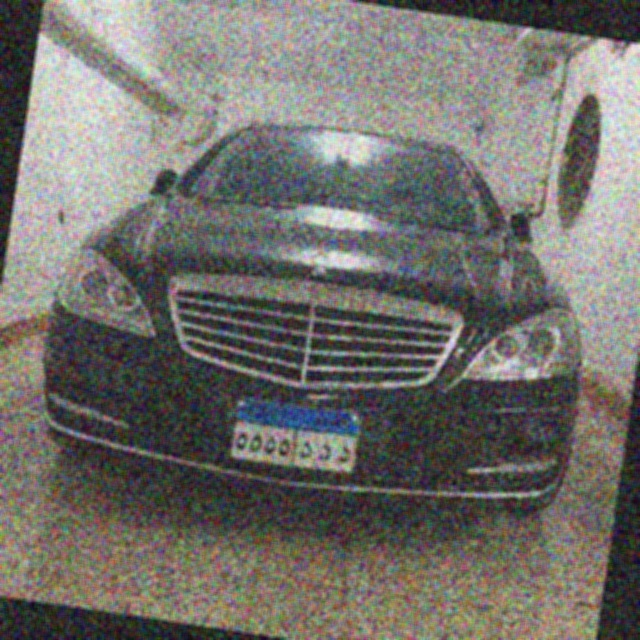License Plate: (225, 393, 365, 480)
